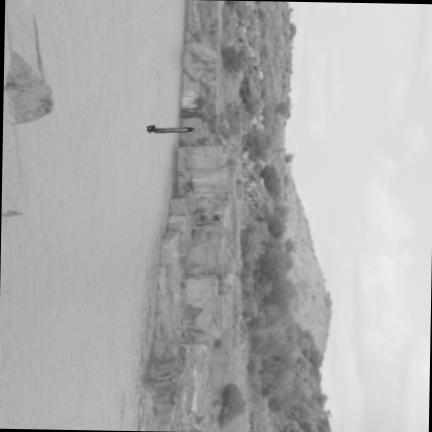Shahed: (145, 125, 195, 132)
